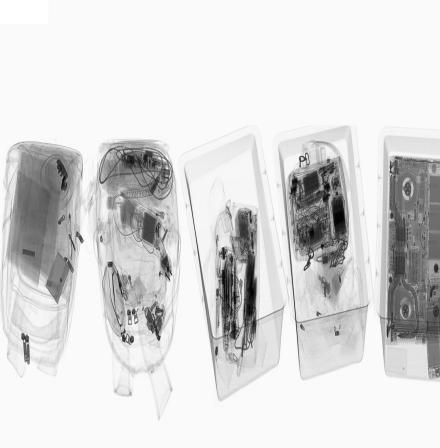Lighter: (144, 205, 167, 222)
